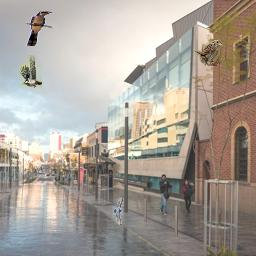Cuckoo: (26, 11, 52, 46)
Sparrow: (194, 39, 223, 66)
Swallow: (112, 198, 123, 225)
Woodpecker: (19, 55, 42, 88)
